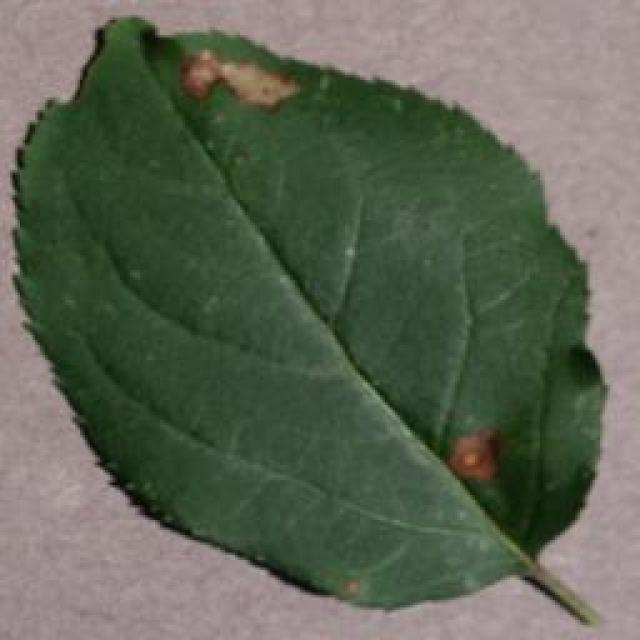Black_rot: (8, 13, 608, 625)
